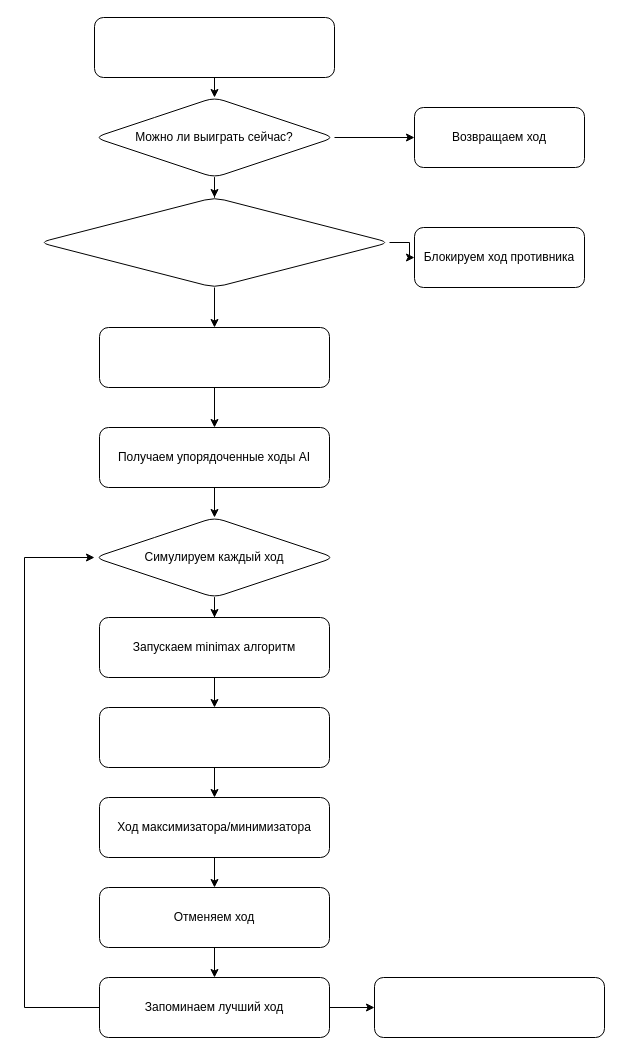
The diagram is 622 pixels wide and 1055 high, and some of its shapes have lost their labels. Here are the shapes that lost their labels. From the top down, the centre of each, then its label:
point (214, 47): findBestMove()
point (214, 242): Нужно ли блокировать выигрыш противника?
point (214, 357): Начинаем итеративное углубление
point (214, 737): Проверка условий остановки
point (489, 1007): Возвращаем лучший ход
